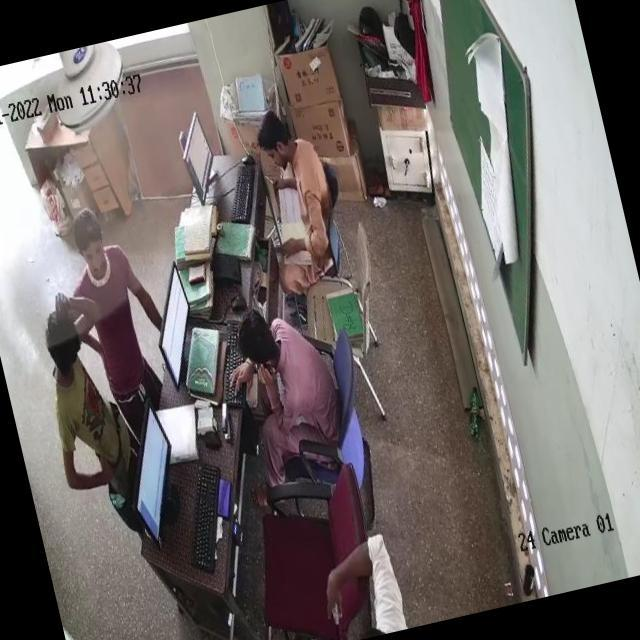person: (68, 209, 177, 427), (35, 306, 136, 492), (225, 291, 341, 448), (254, 106, 346, 274)
